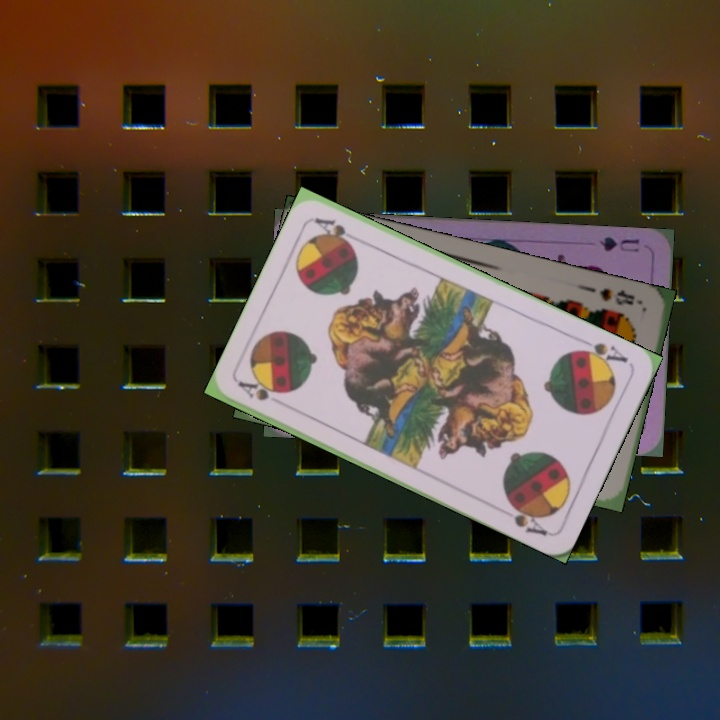GU: (595, 232, 642, 255)
S8: (596, 284, 637, 308)
SA: (572, 334, 631, 371), (234, 377, 283, 404)
